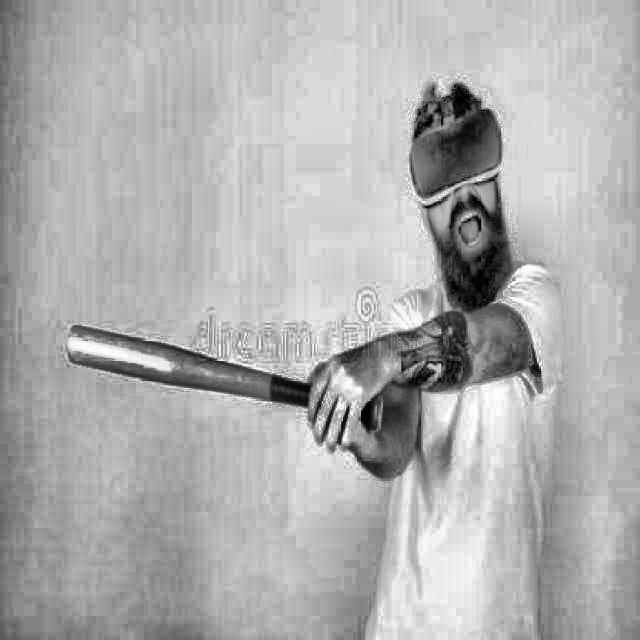tongkat pemukul: (53, 309, 403, 436)
